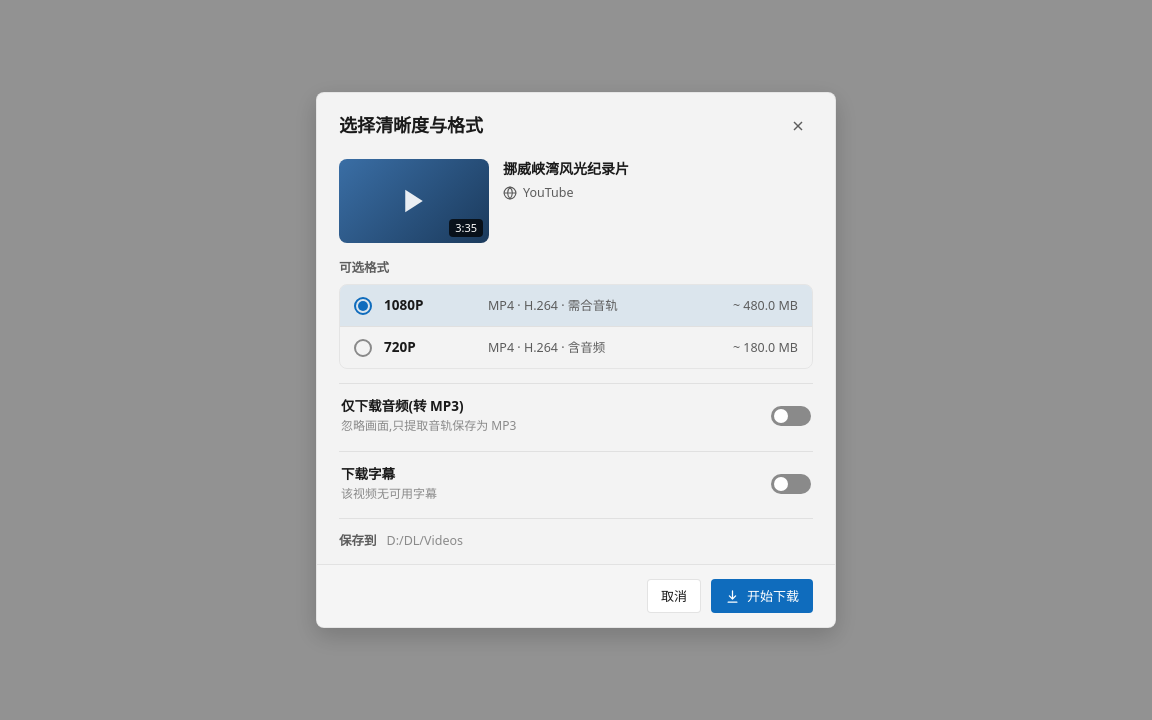
保存到:跟随态显 video 类目录;开音频开关 → 切 audio 类目录(实时落点,spec §2.3)
The width and height of the screenshot is (1152, 720).
Click the switch named "仅下载音频转 MP3": (791, 416) top-left (771, 406), bottom-right (811, 426)
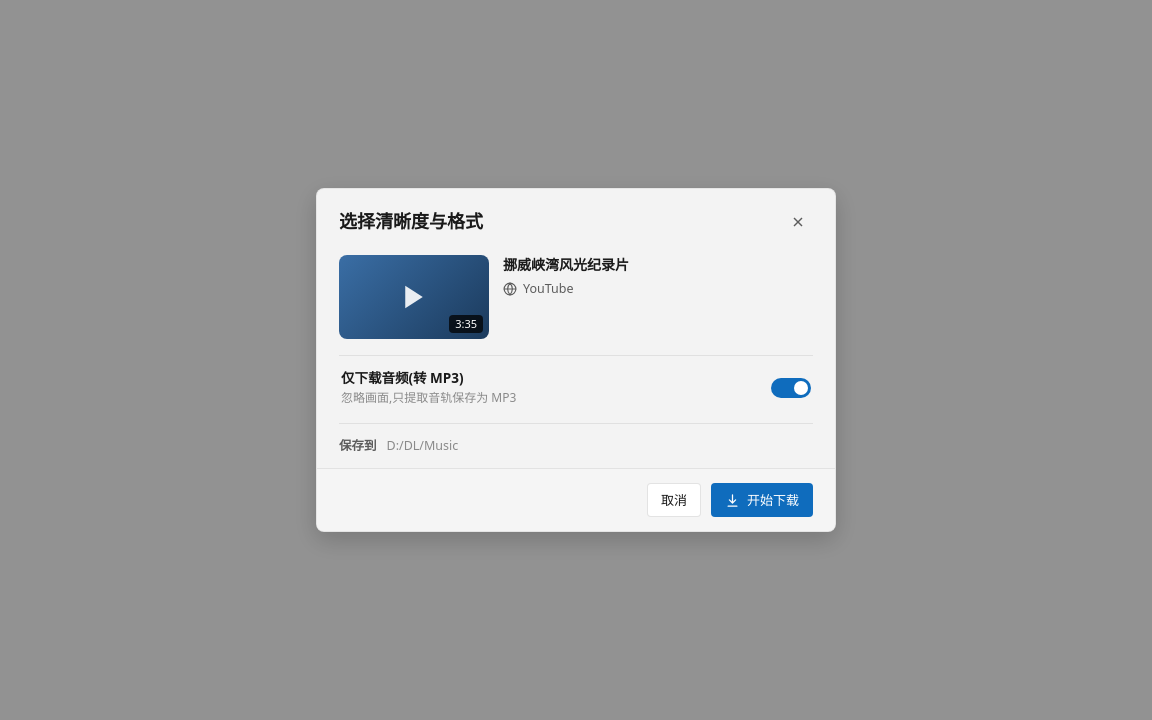
Check: the text with class "st-dir" reads "D:/DL/Music", box top-left (386, 436), bottom-right (458, 454)
